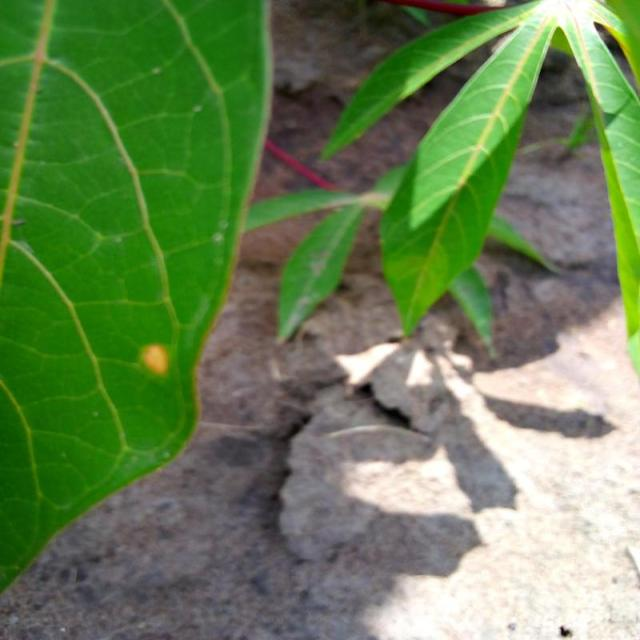cassava leaf: (0, 0, 274, 601)
